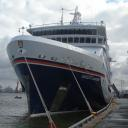cruises: (7, 6, 116, 118)
